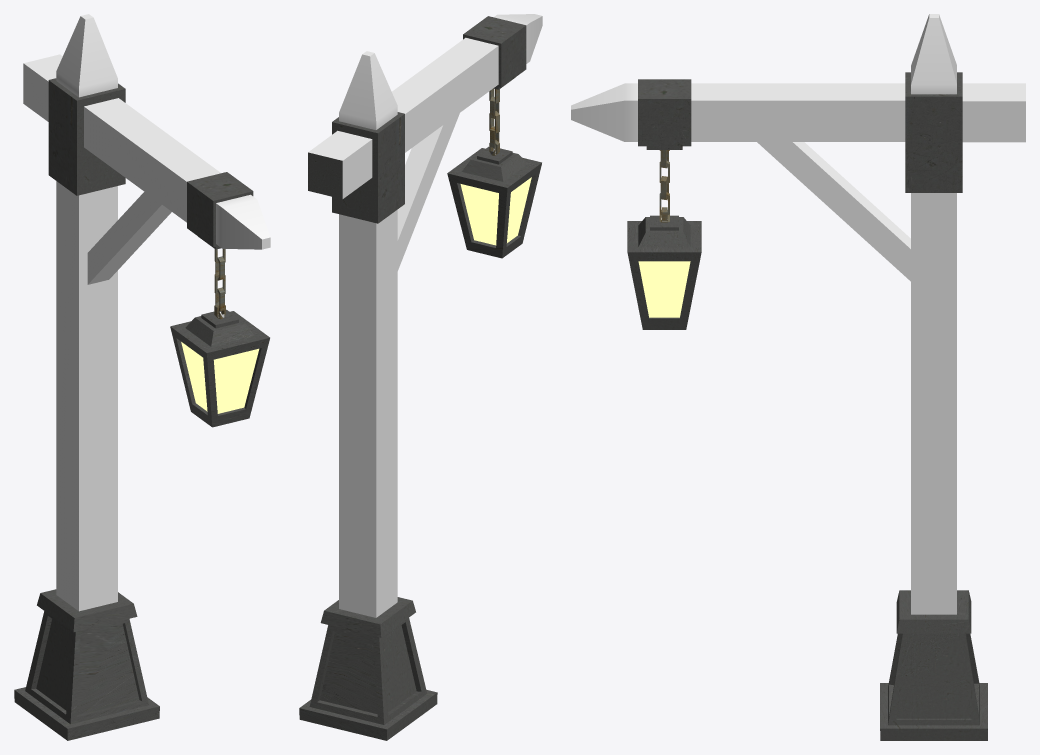
The model's file is street-lantern.glb.
3 renders of one model, left to right at view 1: azimuth 30°, elevation 25°; view 2: azimuth 150°, elevation 25°; view 3: azimuth 270°, elevation 25°, orthographic. The views are drawn at different scales.
Parts seen in each view (by area): view 1: Wood, Stone, Lantern, LampLight; view 2: Wood, Stone, Lantern, LampLight; view 3: Wood, Stone, Lantern, LampLight.
Boxes of the visible parts, box(x1,y1,x2,y2) form: Wood: box(23, 14, 270, 611); Stone: box(14, 78, 253, 740); Lantern: box(170, 249, 269, 427); LampLight: box(181, 342, 259, 413); Wood: box(308, 14, 542, 617); Stone: box(299, 16, 526, 740); Lantern: box(447, 88, 541, 258); LampLight: box(460, 177, 531, 245); Wood: box(571, 14, 1025, 614); Stone: box(638, 72, 987, 740); Lantern: box(627, 150, 701, 329); LampLight: box(638, 261, 690, 317).
Bounding box in the file's own units: 1.19 × 8.56 × 5.02.
5 materials, 2 textured.
